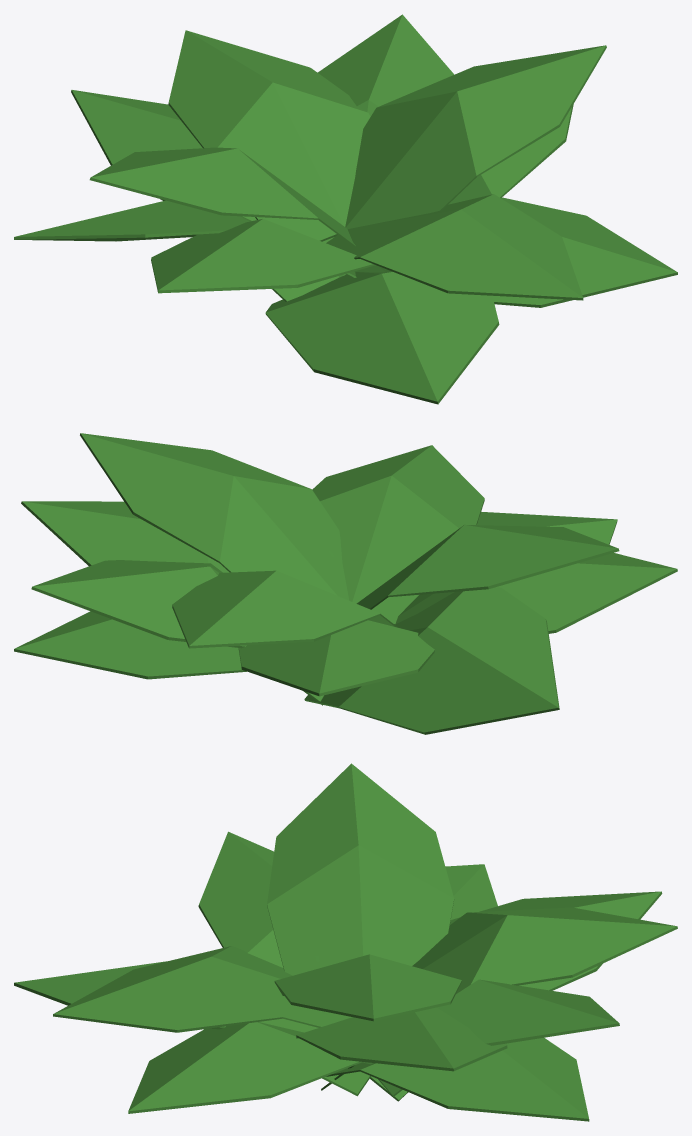
Rendered from Plant.glb.
3 views of the same model, one above another, from view 1: azimuth 30°, elevation 25°; view 2: azimuth 150°, elevation 25°; view 3: azimuth 270°, elevation 25° (orthographic). The views are drawn at different scales.
Visible parts, largest first — view 1: Plant; view 2: Plant; view 3: Plant.
Part boxes in pixels (left/top/right/bottom): Plant: left=14, top=14, right=677, bottom=404; Plant: left=14, top=433, right=677, bottom=734; Plant: left=14, top=763, right=677, bottom=1121.
Bounding box in the file's own units: 3.03 × 1.07 × 3.23.
